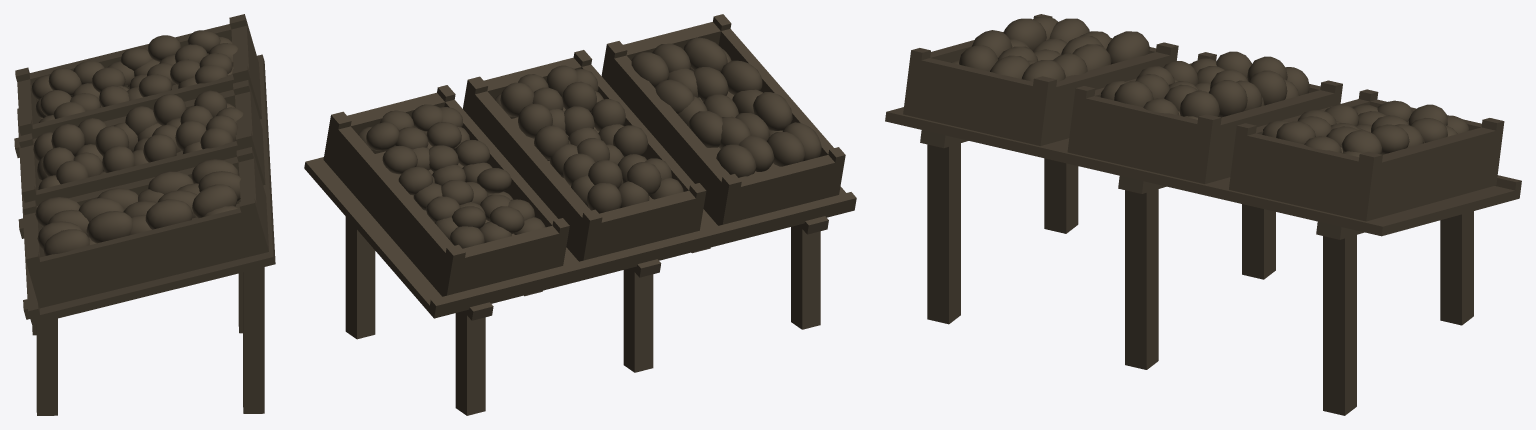
File: table_food.fbx
3 views of the same model, side by side, from view 1: azimuth 30°, elevation 25°; view 2: azimuth 150°, elevation 25°; view 3: azimuth 270°, elevation 25° (orthographic). The views are drawn at different scales.
Visible parts, largest first — view 1: table_food; view 2: table_food; view 3: table_food.
Part boxes in pixels (x1,y1,x2,y2): table_food: (14, 14, 275, 415); table_food: (304, 14, 856, 415); table_food: (885, 14, 1521, 415).
Bounding box in the file's own units: 168 × 91.93 × 202.
